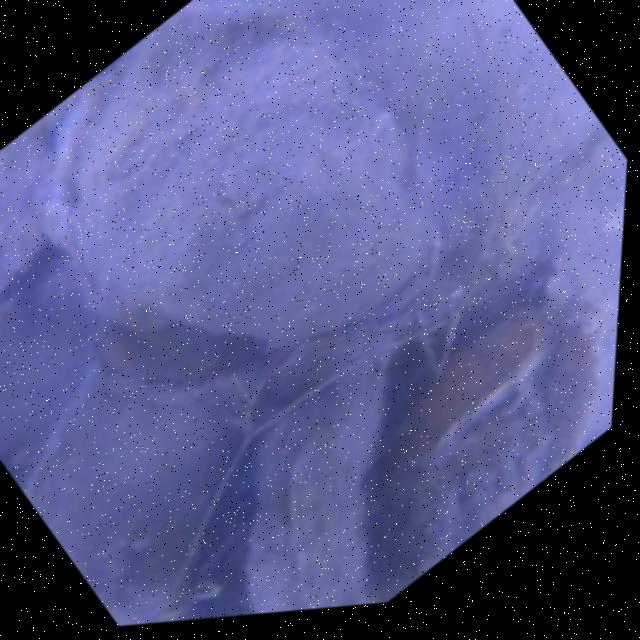Oyster-Closed: (48, 0, 447, 345)
Oyster-Indeterminate: (22, 378, 259, 626), (238, 317, 395, 614), (388, 313, 552, 465), (542, 293, 617, 480)
